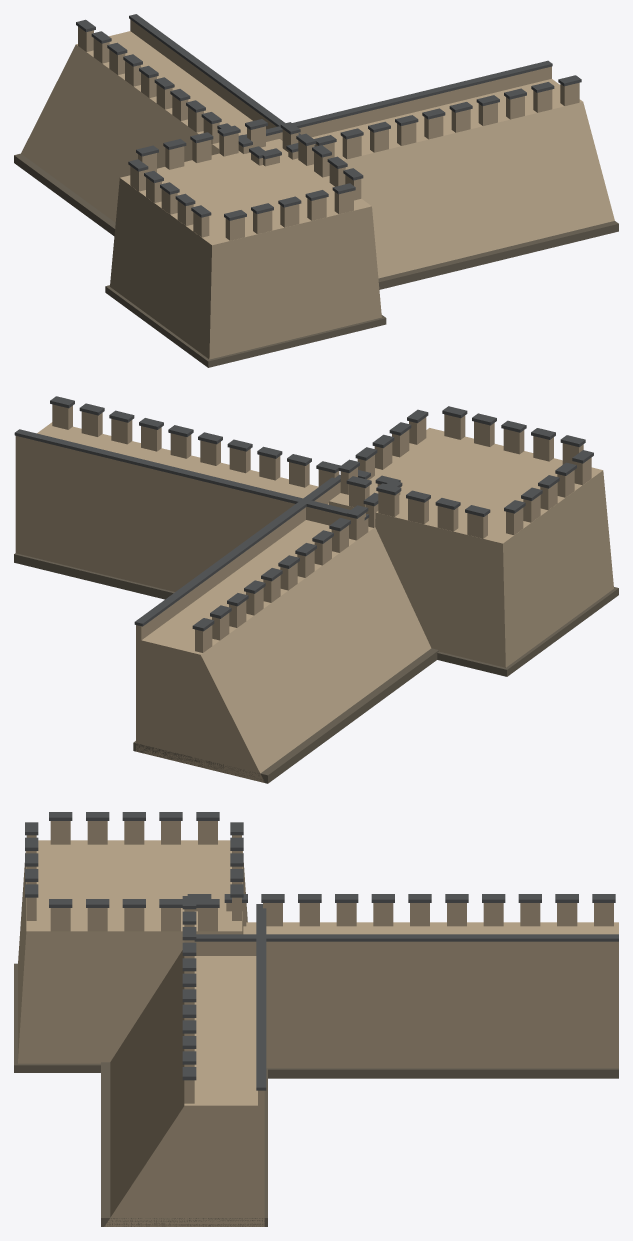
The model's file is K02_far.glb.
3 renders of one model, top to bottom at view 1: azimuth 30°, elevation 25°; view 2: azimuth 150°, elevation 25°; view 3: azimuth 270°, elevation 25°, orthographic. The views are drawn at different scales.
Visible parts, largest first — view 1: K02_far; view 2: K02_far; view 3: K02_far.
Part boxes in pixels (bbox=[...]): K02_far: bbox=[14, 14, 618, 367]; K02_far: bbox=[14, 396, 618, 783]; K02_far: bbox=[14, 812, 618, 1226].
Bounding box in the file's own units: 36.2 × 10.82 × 36.2.
